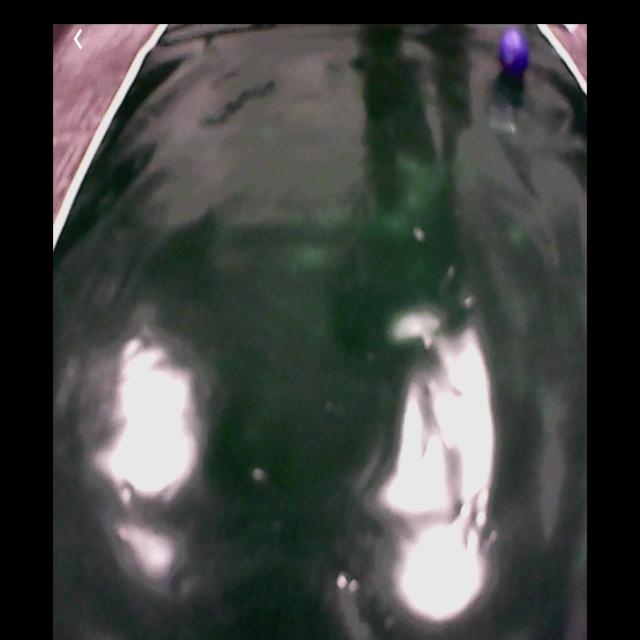ball: (500, 29, 530, 76)
